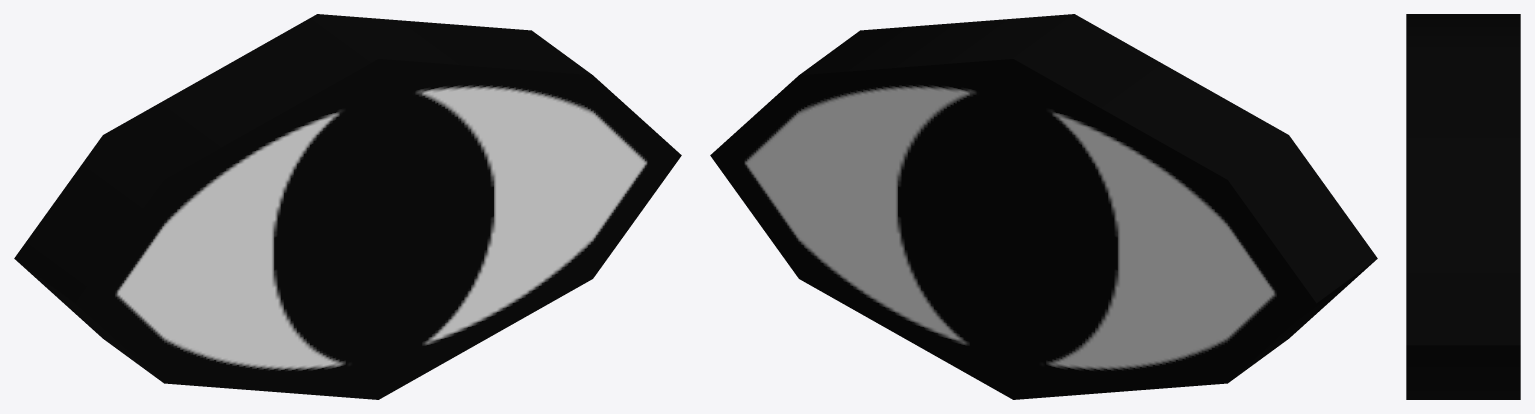
File: Detection Mesh.fbx
The picture shows the model from 3 angles, left to right: view 1: azimuth 30°, elevation 25°; view 2: azimuth 150°, elevation 25°; view 3: azimuth 270°, elevation 25°; orthographic projection. The views are drawn at different scales.
Parts seen in each view (by area): view 1: Circle; view 2: Circle; view 3: Circle.
Part boxes in pixels (box(x1,y1,x2,y2)): Circle: box(14, 14, 681, 399); Circle: box(710, 14, 1377, 399); Circle: box(1406, 14, 1520, 399).
Bounding box in the file's own units: 2 × 1.08 × 0.3499.
